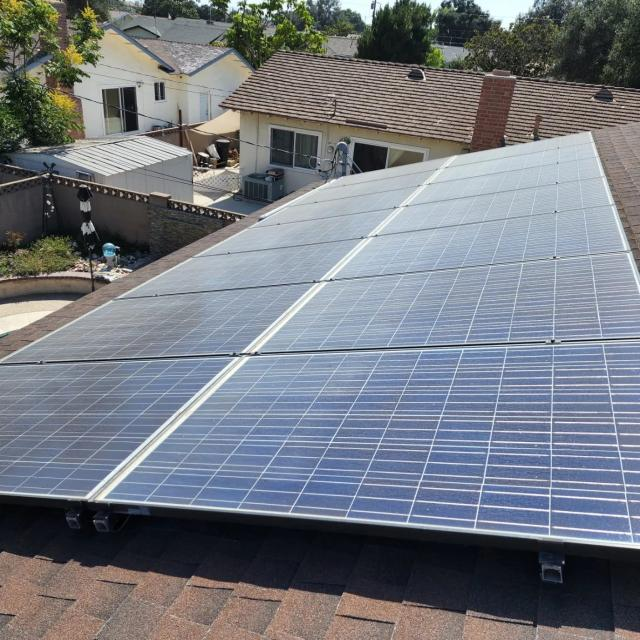dust-solar-panel: (0, 130, 640, 546)
